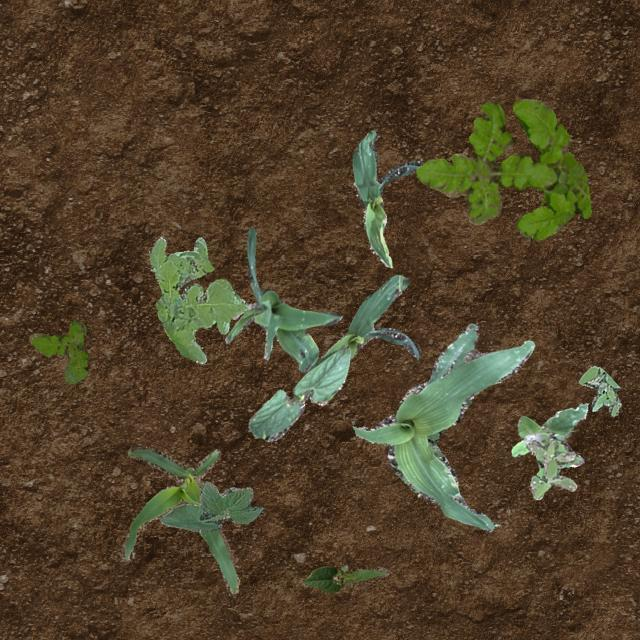crop: (352, 322, 534, 530), (120, 446, 238, 594), (224, 227, 342, 371), (248, 344, 350, 441), (352, 130, 424, 266), (320, 274, 420, 358), (160, 480, 262, 530), (301, 562, 388, 592)
weed: (414, 97, 590, 240), (148, 235, 248, 362), (511, 402, 586, 478), (28, 318, 88, 382), (524, 438, 576, 498), (578, 364, 620, 416)
